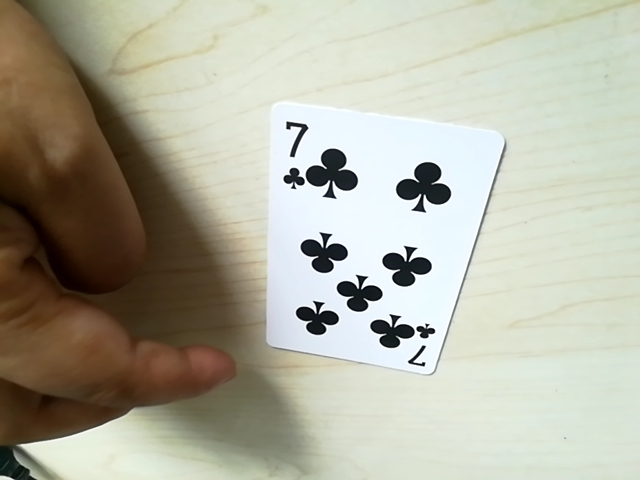mh 7: (273, 108, 317, 186), (398, 331, 441, 373)
